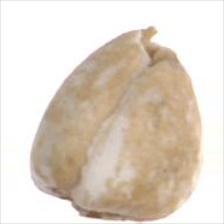L3: (135, 25, 183, 67)
L4: (29, 25, 202, 222)
